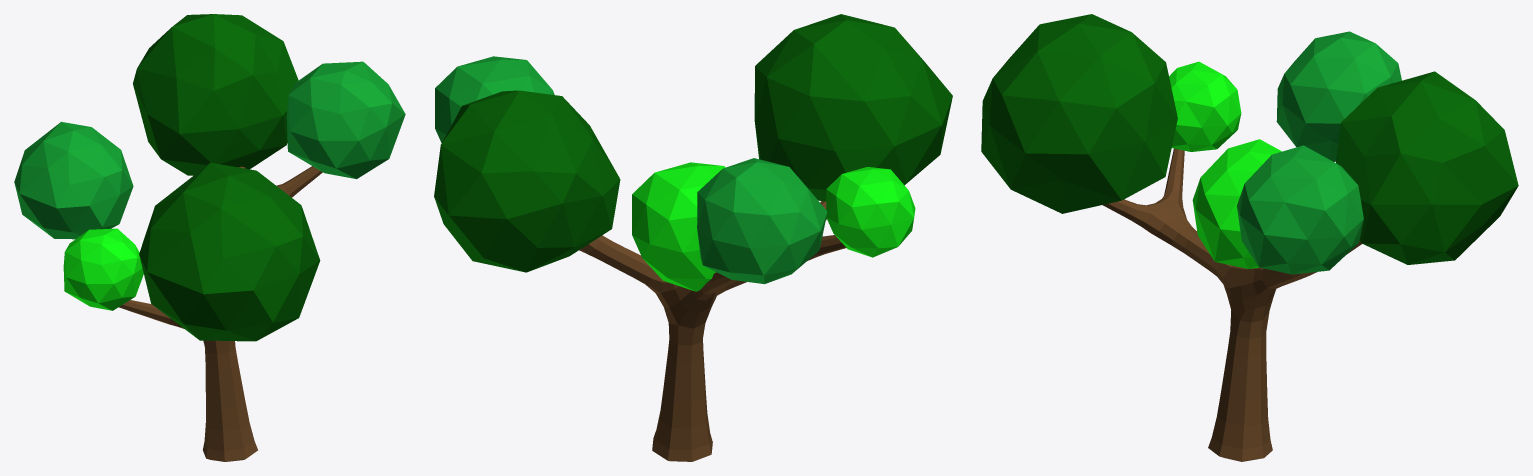
Rendered from Park1_T6.glb.
3 views of the same model, side by side, from view 1: azimuth 30°, elevation 25°; view 2: azimuth 150°, elevation 25°; view 3: azimuth 270°, elevation 25° (orthographic). The views are drawn at different scales.
Parts seen in each view (by area): view 1: Park1-T6; view 2: Park1-T6; view 3: Park1-T6.
Part boxes in pixels (box(x1,y1,x2,y2)): Park1-T6: box(14, 14, 405, 461); Park1-T6: box(434, 14, 952, 461); Park1-T6: box(981, 14, 1518, 461).
Bounding box in the file's own units: 33.65 × 31.67 × 37.78.
